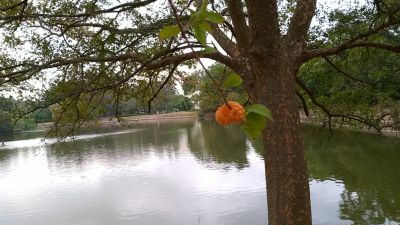eggs: (214, 100, 248, 129)
